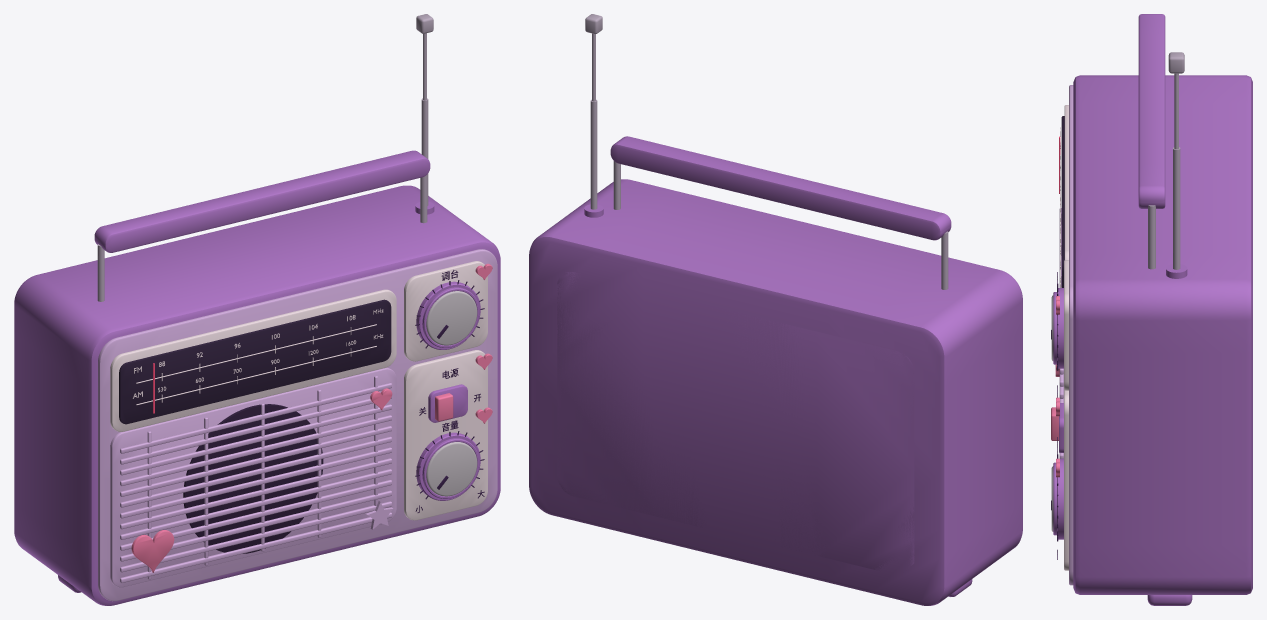
The model's file is LavenderRetroRadio_240x90x160mm.fbx.
3 renders of one model, left to right at view 1: azimuth 30°, elevation 25°; view 2: azimuth 150°, elevation 25°; view 3: azimuth 270°, elevation 25°, orthographic. The views are drawn at different scales.
Parts seen in each view (by area): view 1: Radio_Main_Cabinet, Radio_SpeakerGrille, Radio_Front_Fascia, Radio_Frequency_Window, Radio_SpeakerPanel, Radio_Handle_Grip, Radio_SpeakerCone, Radio_PowerVolumePanel, Radio_Frequency_Bezel, Radio_TuningPanel, Radio_VolumeKnob_Knob, Radio_TuningKnob_Knob (+5 smaller); view 2: Radio_Main_Cabinet, Radio_Back_ServicePanel, Radio_Handle_Grip, Radio_Antenna_Lower; view 3: Radio_Main_Cabinet, Radio_Handle_Grip, Radio_Front_Fascia, Radio_Antenna_Lower, Radio_PowerVolumePanel, Radio_Frequency_Bezel, Radio_Frequency_Window, Radio_TuningPanel, Radio_Handle_RightSupport, Radio_VolumeKnob_Bezel, Radio_TuningKnob_Bezel, Radio_Foot_1 (+3 smaller).
Boxes of the visible parts, x1,y1,x2,y2 form: Radio_Main_Cabinet: (14,185,500,605); Radio_SpeakerGrille: (120,376,391,583); Radio_Front_Fascia: (98,249,497,601); Radio_Frequency_Window: (119,299,391,424); Radio_SpeakerPanel: (110,367,396,587); Radio_Handle_Grip: (94,150,430,252); Radio_SpeakerCone: (183,404,323,553); Radio_PowerVolumePanel: (404,350,487,520); Radio_Frequency_Bezel: (110,289,396,431); Radio_TuningPanel: (404,261,487,361); Radio_VolumeKnob_Knob: (426,442,477,496); Radio_TuningKnob_Knob: (426,291,477,345); Radio_Main_Cabinet: (529,179,1022,605); Radio_Back_ServicePanel: (557,272,914,570); Radio_Handle_Grip: (610,136,951,240); Radio_Antenna_Lower: (590,99,597,209); Radio_Main_Cabinet: (1073,75,1252,594); Radio_Handle_Grip: (1138,14,1165,208); Radio_Front_Fascia: (1069,85,1073,585); Radio_Antenna_Lower: (1173,147,1180,269); Radio_PowerVolumePanel: (1064,390,1068,570); Radio_Frequency_Bezel: (1064,105,1068,259); Radio_Frequency_Window: (1061,116,1064,287); Radio_TuningPanel: (1064,260,1068,390); Radio_Handle_RightSupport: (1148,205,1155,269); Radio_VolumeKnob_Bezel: (1057,458,1063,539); Radio_TuningKnob_Bezel: (1057,288,1063,368); Radio_Foot_1: (1147,595,1192,605).
Size of the model in its own units: 0.24 by 0.268 by 0.09.
